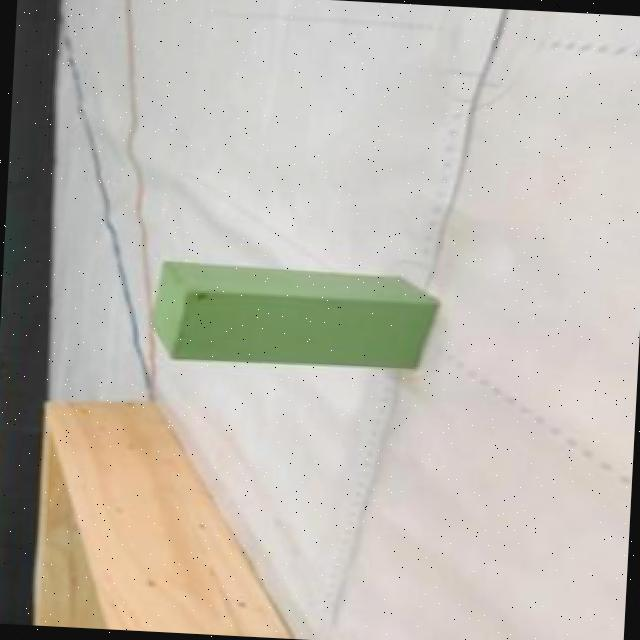greenbox: (138, 254, 442, 378)
